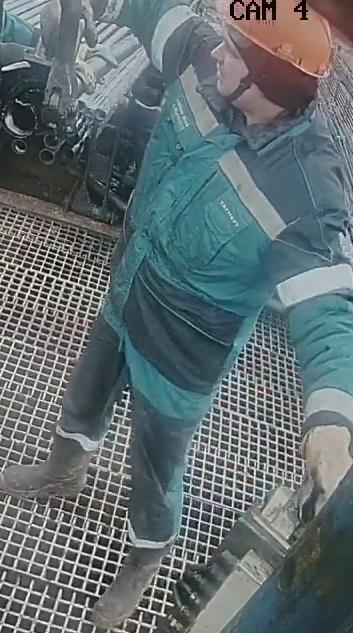gloves: (298, 402, 353, 524)
helmet: (225, 0, 334, 79)
vest: (120, 83, 329, 365)
